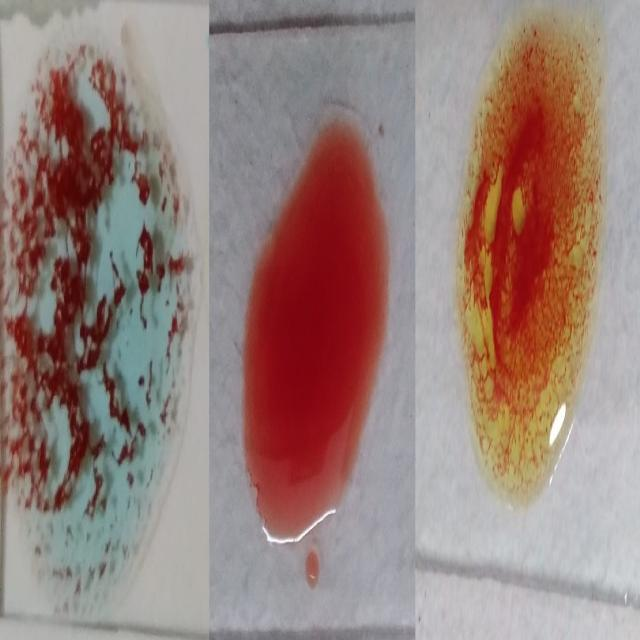A: (1, 37, 180, 594)
B: (462, 15, 600, 500)
